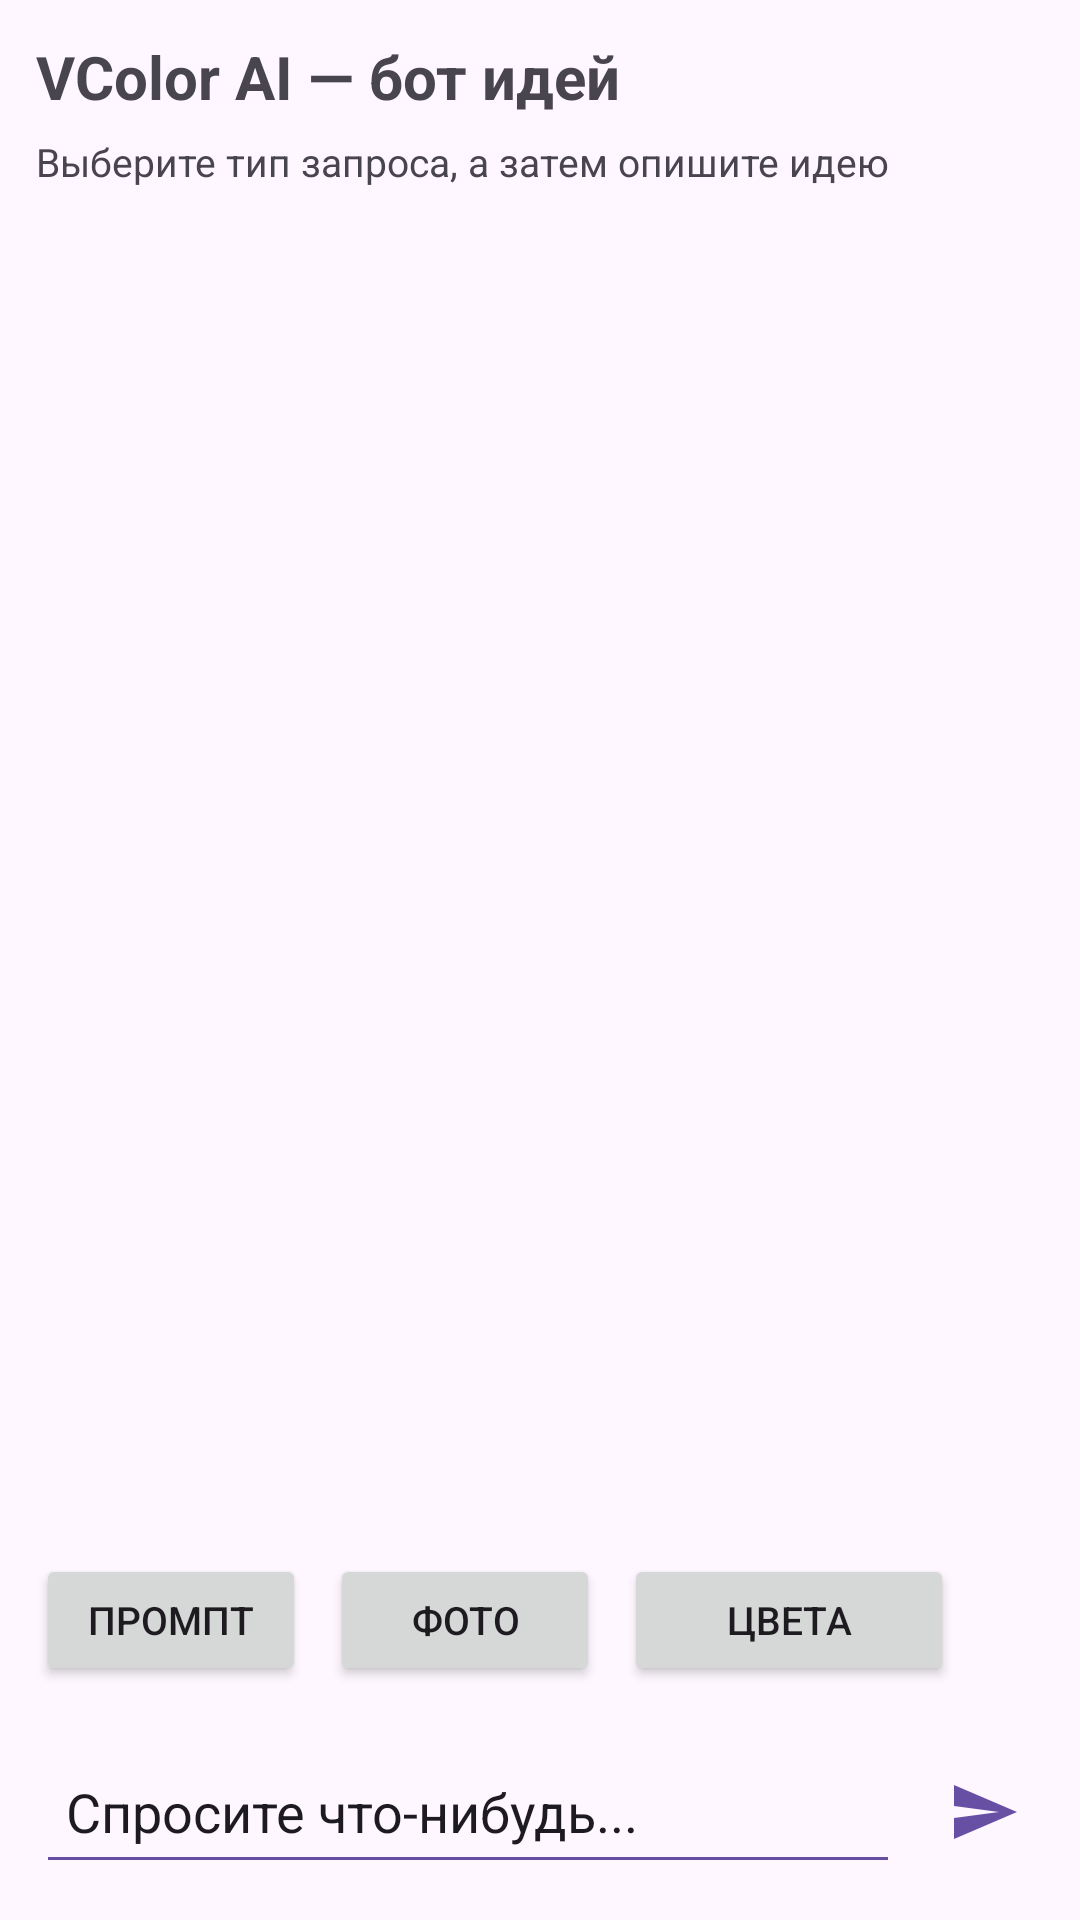

Screen size 1080*1920. Icon name, then its box in pixels as (x1, y1, x2, y2):
Отправить: (954, 1785, 1017, 1839)
